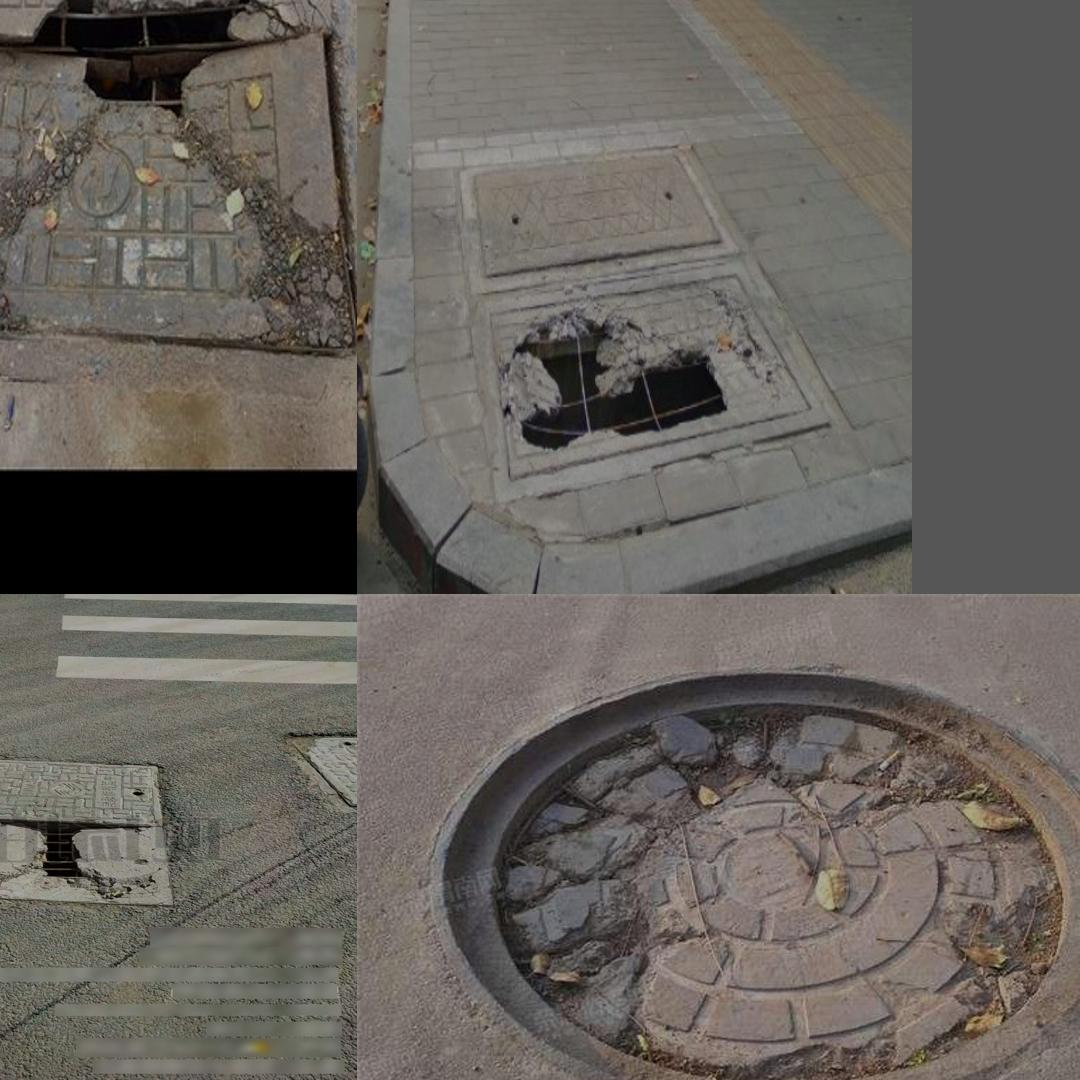broke: (416, 654, 1080, 1080), (0, 0, 357, 407), (478, 261, 829, 503), (0, 759, 175, 907)
good: (458, 142, 738, 293)
